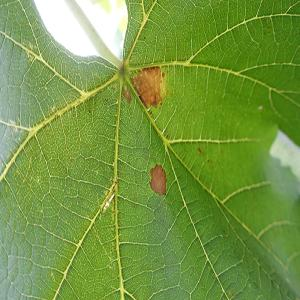Folha: (0, 0, 300, 299)
Fungo: (131, 66, 167, 110), (148, 162, 167, 196), (122, 86, 132, 103)
